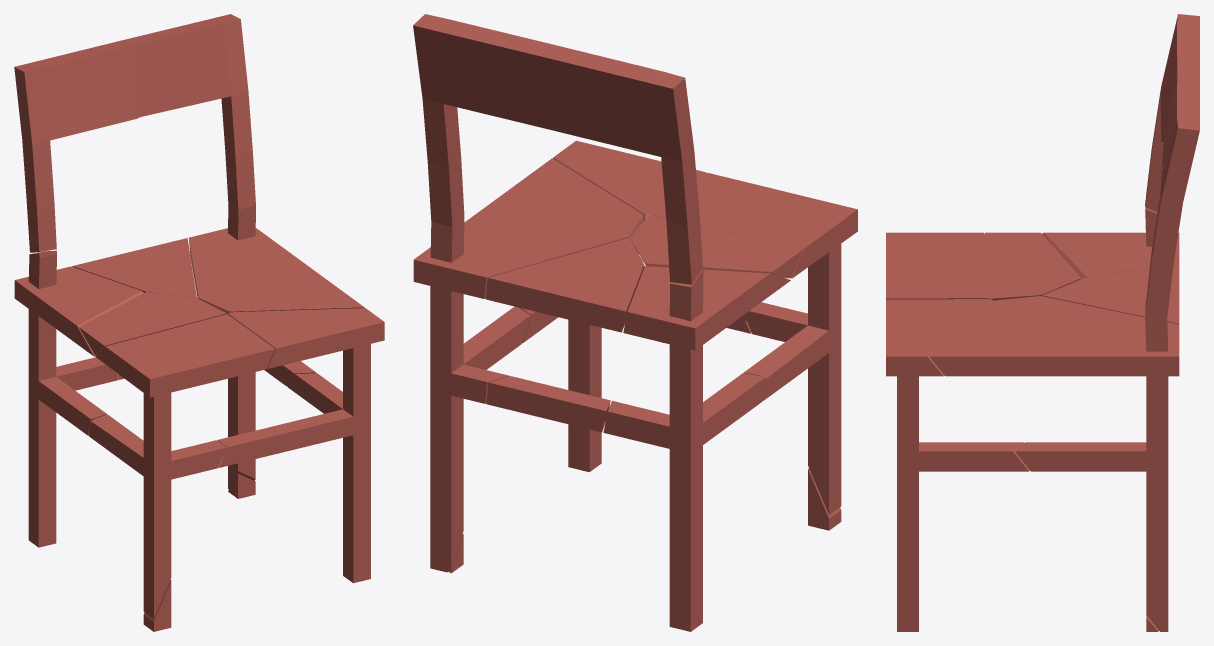
File: ChairShatter.fbx
3 views of the same model, side by side, from view 1: azimuth 30°, elevation 25°; view 2: azimuth 150°, elevation 25°; view 3: azimuth 270°, elevation 25° (orthographic). The views are drawn at different scales.
Visible parts, largest first — view 1: Cube.001_cell.005, Cube.001_cell.003, Cube.001_cell.014, Cube.001_cell.002, Cube.001_cell, Cube.001_cell.010, Cube.001_cell.013, Cube.001_cell.009, Cube.001_cell.007, Cube.001_cell.017, Cube.001_cell.015, Cube.001_cell.001 (+1 smaller); view 2: Cube.001_cell.005, Cube.001_cell.014, Cube.001_cell, Cube.001_cell.015, Cube.001_cell.002, Cube.001_cell.017, Cube.001_cell.010, Cube.001_cell.009, Cube.001_cell.007, Cube.001_cell.013, Cube.001_cell.003, Cube.001_cell.016 (+2 smaller); view 3: Cube.001_cell.014, Cube.001_cell.005, Cube.001_cell.015, Cube.001_cell.003, Cube.001_cell.010, Cube.001_cell.013, Cube.001_cell.007, Cube.001_cell.009, Cube.001_cell.017.
Boxes of the visible parts, x1,y1,x2,y2 form: Cube.001_cell.005: [14, 14, 255, 252]; Cube.001_cell.003: [217, 344, 370, 583]; Cube.001_cell.014: [188, 228, 364, 314]; Cube.001_cell.002: [88, 392, 226, 618]; Cube.001_cell: [28, 309, 117, 547]; Cube.001_cell.010: [95, 314, 274, 397]; Cube.001_cell.013: [227, 308, 384, 368]; Cube.001_cell.009: [14, 266, 143, 356]; Cube.001_cell.007: [79, 292, 226, 355]; Cube.001_cell.017: [72, 238, 196, 297]; Cube.001_cell.015: [228, 361, 316, 489]; Cube.001_cell.001: [28, 250, 56, 288]; Cube.001_cell.005: [413, 14, 702, 284]; Cube.001_cell.014: [413, 158, 643, 298]; Cube.001_cell: [603, 344, 765, 631]; Cube.001_cell.015: [430, 286, 530, 572]; Cube.001_cell.002: [743, 244, 841, 514]; Cube.001_cell.017: [485, 238, 644, 332]; Cube.001_cell.010: [651, 172, 857, 278]; Cube.001_cell.009: [623, 266, 790, 350]; Cube.001_cell.007: [630, 215, 802, 277]; Cube.001_cell.013: [553, 140, 706, 221]; Cube.001_cell.003: [518, 307, 751, 472]; Cube.001_cell.016: [486, 376, 610, 432]; Cube.001_cell.014: [929, 296, 1179, 376]; Cube.001_cell.005: [1145, 14, 1199, 351]; Cube.001_cell.015: [1015, 376, 1168, 631]; Cube.001_cell.003: [897, 376, 1029, 631]; Cube.001_cell.010: [886, 232, 992, 300]; Cube.001_cell.013: [886, 299, 991, 376]; Cube.001_cell.007: [985, 232, 1081, 300]; Cube.001_cell.009: [1042, 232, 1179, 279]; Cube.001_cell.017: [1042, 263, 1179, 324].
Bounding box in the file's own units: 40 × 75.77 × 42.79.
